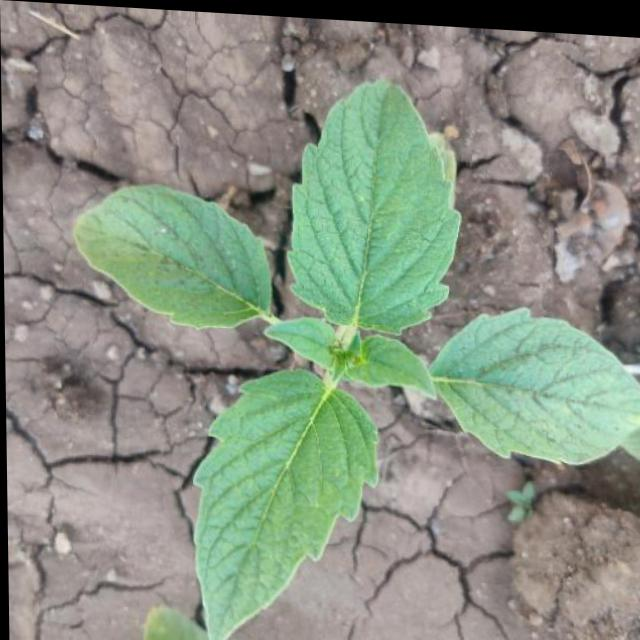crop: (70, 61, 640, 640)
